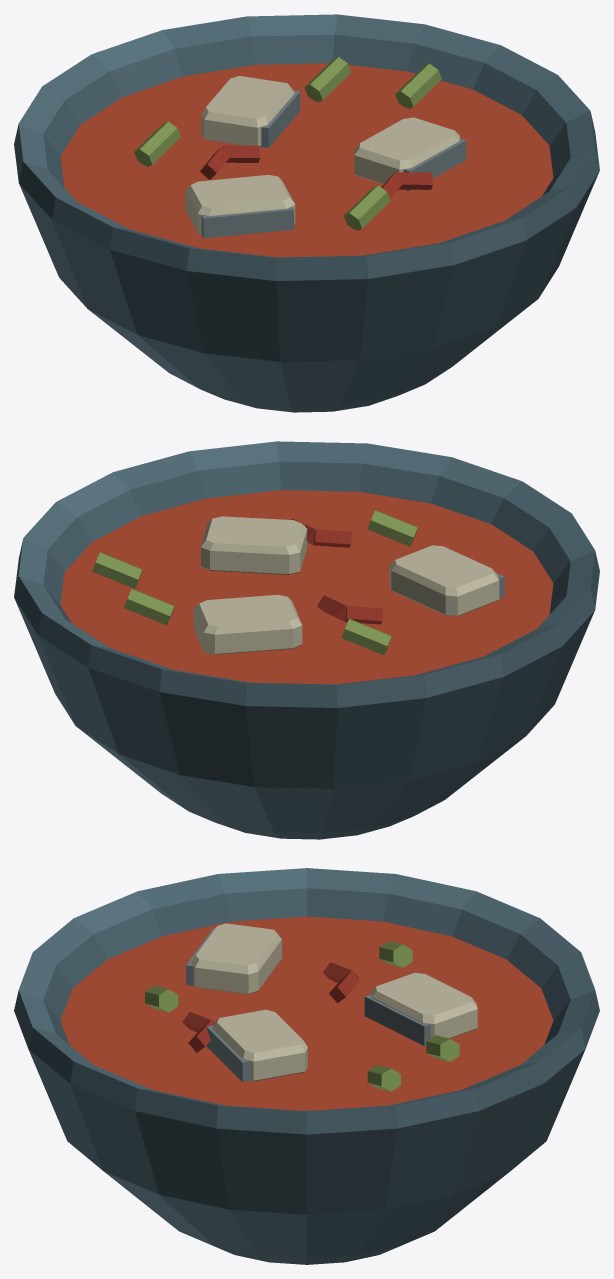
File: soup_fish_spicy.glb
3 views of the same model, one above another, from view 1: azimuth 30°, elevation 25°; view 2: azimuth 150°, elevation 25°; view 3: azimuth 270°, elevation 25° (orthographic).
Parts seen in each view (by area): view 1: food; view 2: food; view 3: food.
Part boxes in pixels (box(x1,y1,x2,y2)): food: box(14, 14, 599, 412); food: box(14, 441, 599, 839); food: box(14, 868, 599, 1264).
Size of the model in its own units: 0.5 by 0.2114 by 0.5.
